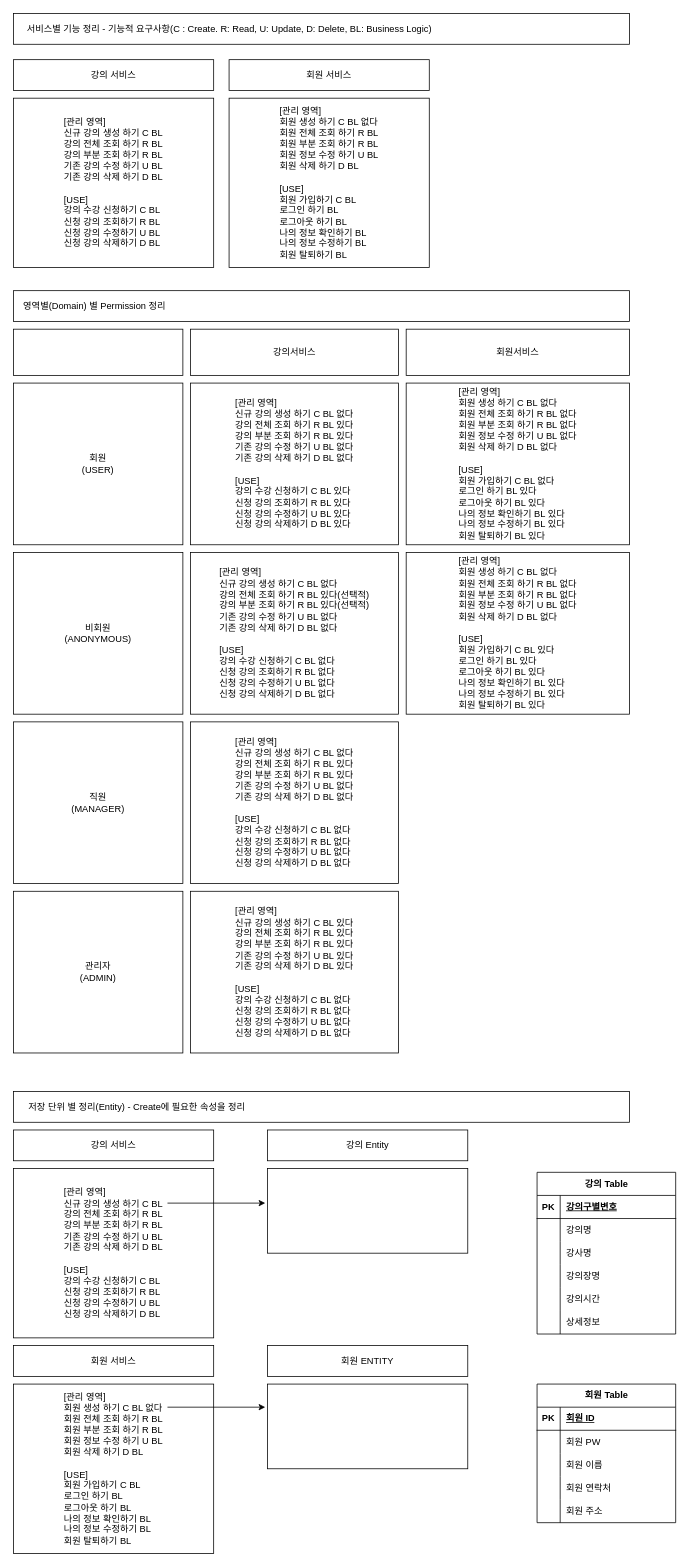
The diagram is 689 pixels wide and 1567 high, and some of its shapes have lost their labels. The shapes that lost their labels are listed below. From the top down, each one's centre as x and y in pixels, then its label:
the point at 98,351: 도메인
the point at 367,1210: [Attribute] 강의 구별 번호(PK) 강의명 강사명 강의장명 강의시간 상세정보
the point at 367,1426: [Attribute] 회원 ID(PK) 회원 PW 회원 이름 회원 연락처 회원 주소
